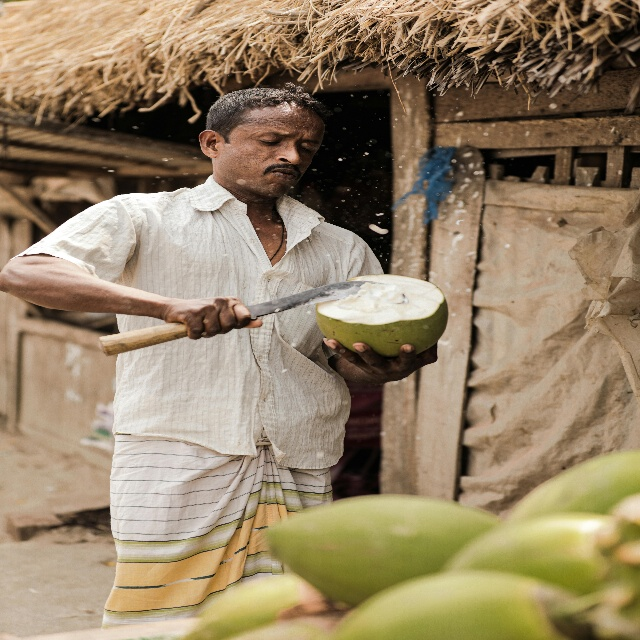Sin_guantes: (321, 321, 439, 383), (165, 290, 265, 346)
